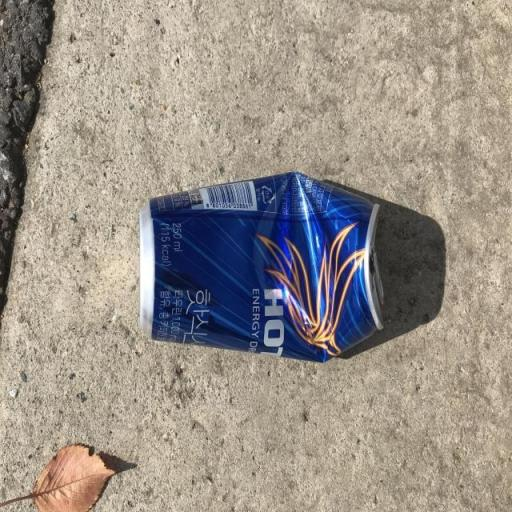metal: (104, 153, 418, 388)
